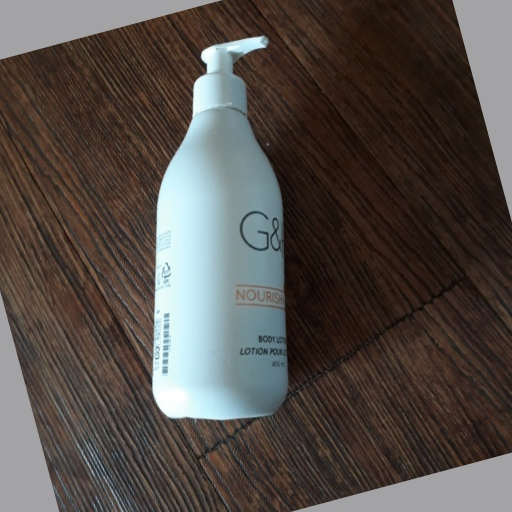Plastic_3: (154, 36, 294, 424)
